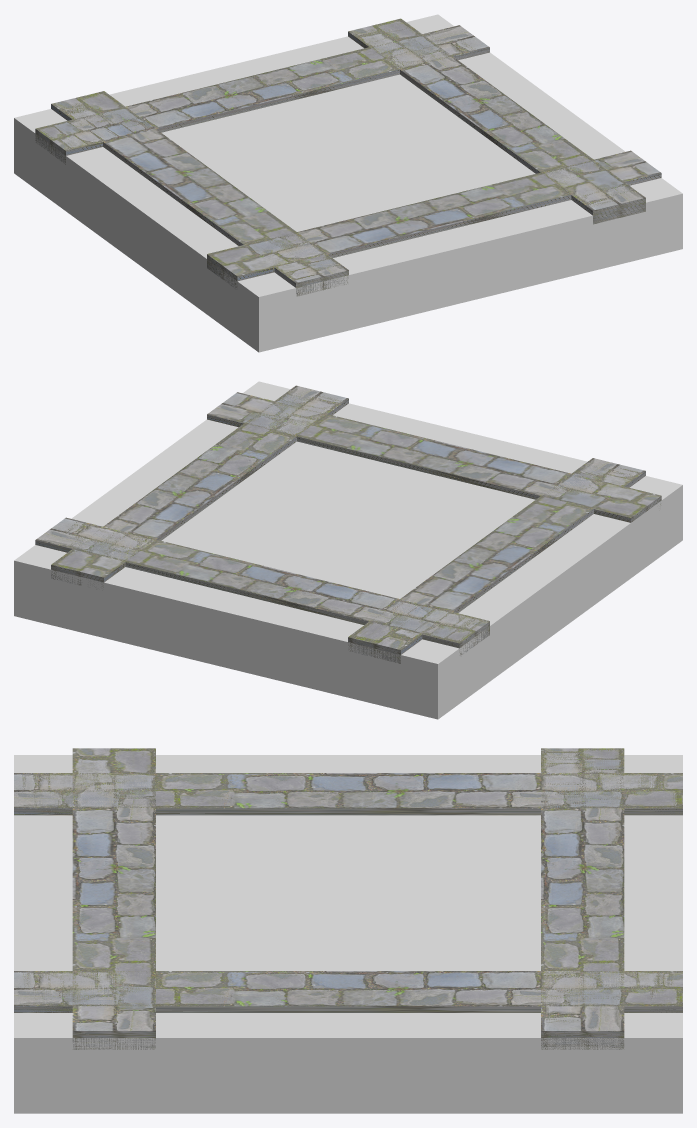
File: GND_Flat_02x02_city_cobble_end_A.glb
The picture shows the model from 3 angles, top to bottom: view 1: azimuth 30°, elevation 25°; view 2: azimuth 150°, elevation 25°; view 3: azimuth 270°, elevation 25°; orthographic projection. The views are drawn at different scales.
Visible parts, largest first — view 1: Cube, rails.001, rails, rails.013, rails.011, rails.005, rails.004, rails.008, rails.003, rails.006; view 2: Cube, rails.005, rails.001, rails.013, rails, rails.011, rails.004, rails.006, rails.003, rails.008; view 3: Cube, rails, rails.001, rails.013, rails.011, rails.005, rails.008, rails.006, rails.003, rails.004.
Boxes of the visible parts, x1=… form: Cube: x1=14, y1=14, x2=682, y2=352; rails.001: x1=348, y1=19, x2=644, y2=210; rails: x1=51, y1=91, x2=348, y2=296; rails.013: x1=245, y1=172, x2=645, y2=287; rails.011: x1=38, y1=42, x2=645, y2=224; rails.005: x1=35, y1=25, x2=489, y2=164; rails.004: x1=35, y1=91, x2=155, y2=155; rails.008: x1=348, y1=18, x2=489, y2=69; rails.003: x1=207, y1=234, x2=347, y2=288; rails.006: x1=541, y1=150, x2=661, y2=209; Cube: x1=14, y1=381, x2=682, y2=719; rails.005: x1=35, y1=518, x2=489, y2=655; rails.001: x1=51, y1=385, x2=348, y2=589; rails.013: x1=244, y1=386, x2=645, y2=499; rails: x1=348, y1=458, x2=645, y2=661; rails.011: x1=120, y1=386, x2=488, y2=646; rails.004: x1=348, y1=599, x2=489, y2=663; rails.006: x1=207, y1=386, x2=346, y2=436; rails.003: x1=541, y1=458, x2=661, y2=522; rails.008: x1=35, y1=517, x2=155, y2=580; Cube: x1=14, y1=755, x2=682, y2=1113; rails: x1=14, y1=773, x2=682, y2=815; rails.001: x1=14, y1=971, x2=682, y2=1012; rails.013: x1=14, y1=773, x2=155, y2=1012; rails.011: x1=14, y1=748, x2=624, y2=1006; rails.005: x1=541, y1=748, x2=624, y2=1049; rails.008: x1=541, y1=971, x2=682, y2=1047; rails.006: x1=14, y1=971, x2=155, y2=1049; rails.003: x1=14, y1=748, x2=155, y2=814; rails.004: x1=541, y1=748, x2=682, y2=814.
Bounding box in the file's own units: 2 × 0.2723 × 2.
5 materials, 5 textured.
